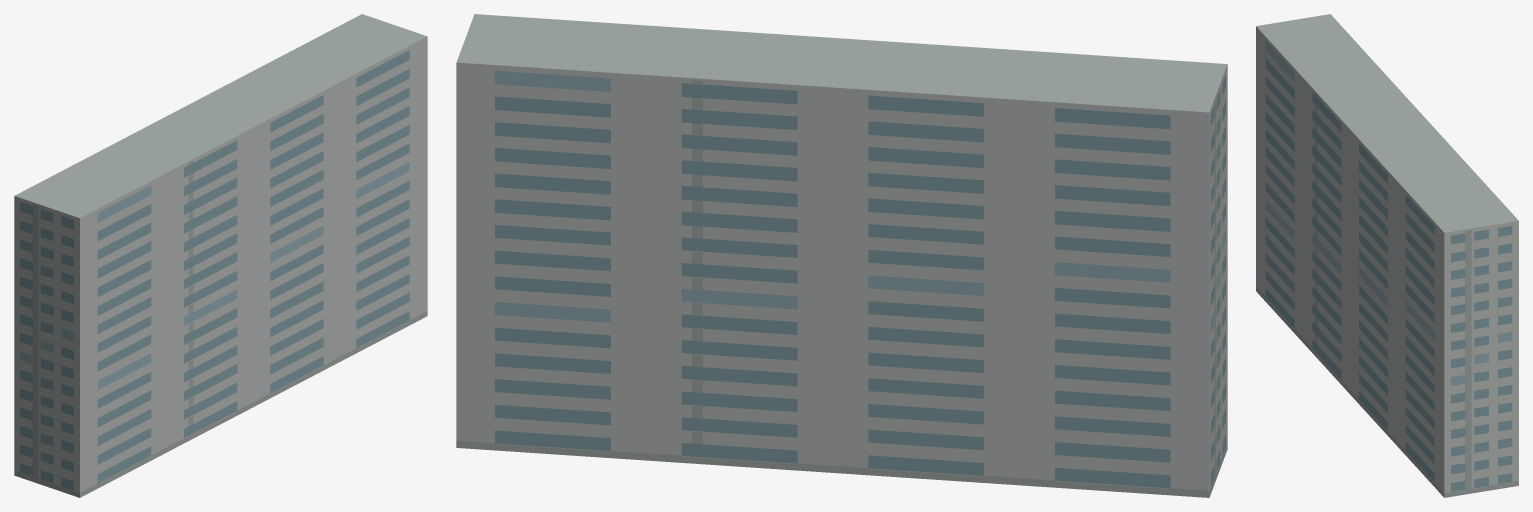
Rendered from residential-b1f7e332-f0a1-4656-820f-6cf6240db208.glb.
3 renders of one model, left to right at view 1: azimuth 30°, elevation 25°; view 2: azimuth 150°, elevation 25°; view 3: azimuth 270°, elevation 25°, orthographic. The views are drawn at different scales.
Parts seen in each view (by area): view 1: residential-b1f7e332-f0a1-4656-820f-6cf6240db208.tmp; view 2: residential-b1f7e332-f0a1-4656-820f-6cf6240db208.tmp; view 3: residential-b1f7e332-f0a1-4656-820f-6cf6240db208.tmp.
Part boxes in pixels (x1=…): residential-b1f7e332-f0a1-4656-820f-6cf6240db208.tmp: x1=14, y1=14, x2=427, y2=497; residential-b1f7e332-f0a1-4656-820f-6cf6240db208.tmp: x1=456, y1=14, x2=1227, y2=497; residential-b1f7e332-f0a1-4656-820f-6cf6240db208.tmp: x1=1256, y1=14, x2=1518, y2=497.
Bounding box in the file's own units: 81.02 × 45.75 × 41.13.
